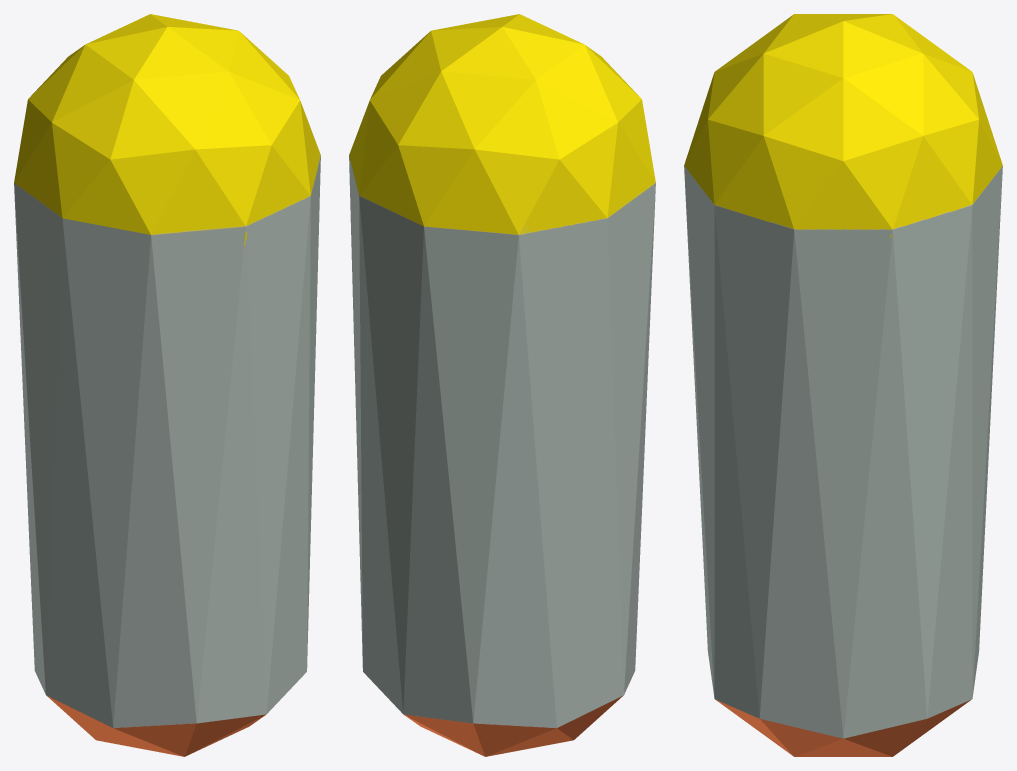
The model's file is enemy1.glb.
3 renders of one model, left to right at view 1: azimuth 30°, elevation 25°; view 2: azimuth 150°, elevation 25°; view 3: azimuth 270°, elevation 25°, orthographic.
Parts seen in each view (by area): view 1: Icosphere; view 2: Icosphere; view 3: Icosphere.
Part boxes in pixels (x1,y1,x2,y2): Icosphere: (14, 14, 320, 756); Icosphere: (349, 14, 655, 756); Icosphere: (684, 14, 1002, 756).
Size of the model in its own units: 1.9 by 5.04 by 2.
1 material, 1 textured.
